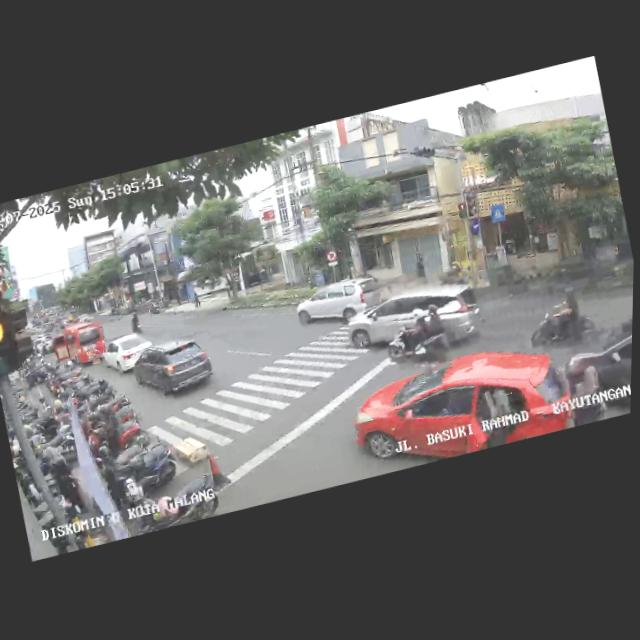car: (343, 331, 573, 479), (340, 273, 486, 359), (549, 312, 633, 428), (129, 329, 220, 408), (292, 274, 374, 334), (48, 318, 108, 374), (99, 328, 158, 378)
motorcycle: (382, 296, 456, 375), (523, 285, 602, 357), (126, 310, 143, 336)
